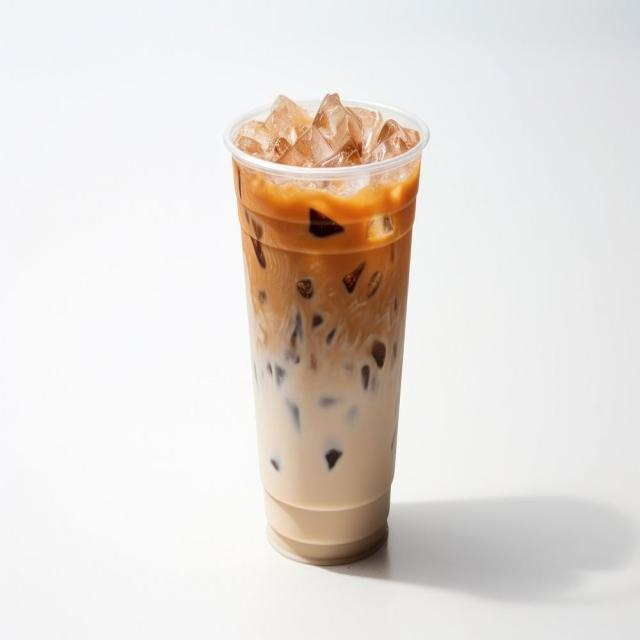plastic cup: (223, 91, 430, 565)
